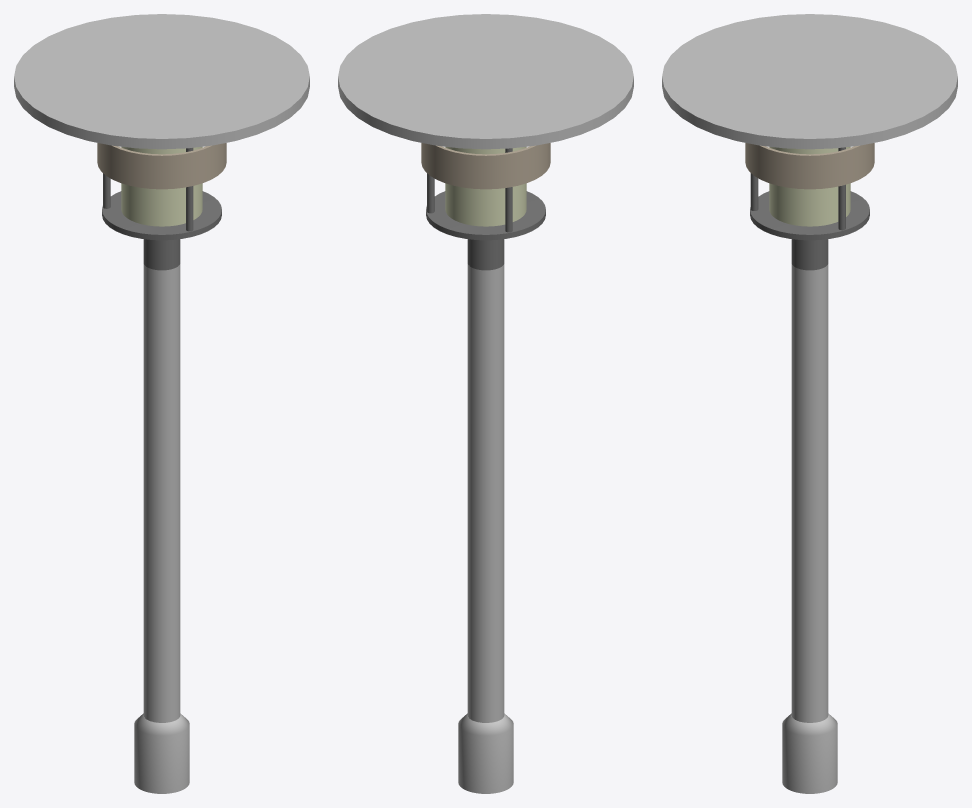
The model's file is short_lamppost.fbx.
3 views of the same model, side by side, from view 1: azimuth 30°, elevation 25°; view 2: azimuth 150°, elevation 25°; view 3: azimuth 270°, elevation 25° (orthographic).
Parts seen in each view (by area): view 1: cap, pole, base (×2), collar, light1; view 2: cap, pole, base (×2), collar, light1; view 3: cap, pole, base (×2), collar, light1.
Boxes of the visible parts, x1=… form: cap: x1=14, y1=14, x2=309, y2=149; pole: x1=143, y1=264, x2=180, y2=722; base (×2): x1=102, y1=191, x2=221, y2=793; collar: x1=97, y1=143, x2=226, y2=189; light1: x1=121, y1=146, x2=202, y2=226; cap: x1=338, y1=14, x2=633, y2=149; pole: x1=467, y1=264, x2=504, y2=722; base (×2): x1=426, y1=191, x2=545, y2=793; collar: x1=421, y1=143, x2=550, y2=189; light1: x1=445, y1=146, x2=526, y2=226; cap: x1=662, y1=14, x2=957, y2=149; pole: x1=791, y1=264, x2=828, y2=722; base (×2): x1=750, y1=191, x2=869, y2=793; collar: x1=745, y1=143, x2=874, y2=189; light1: x1=769, y1=146, x2=850, y2=226.
Bounding box in the file's own units: 0.8 × 2.11 × 0.8.
